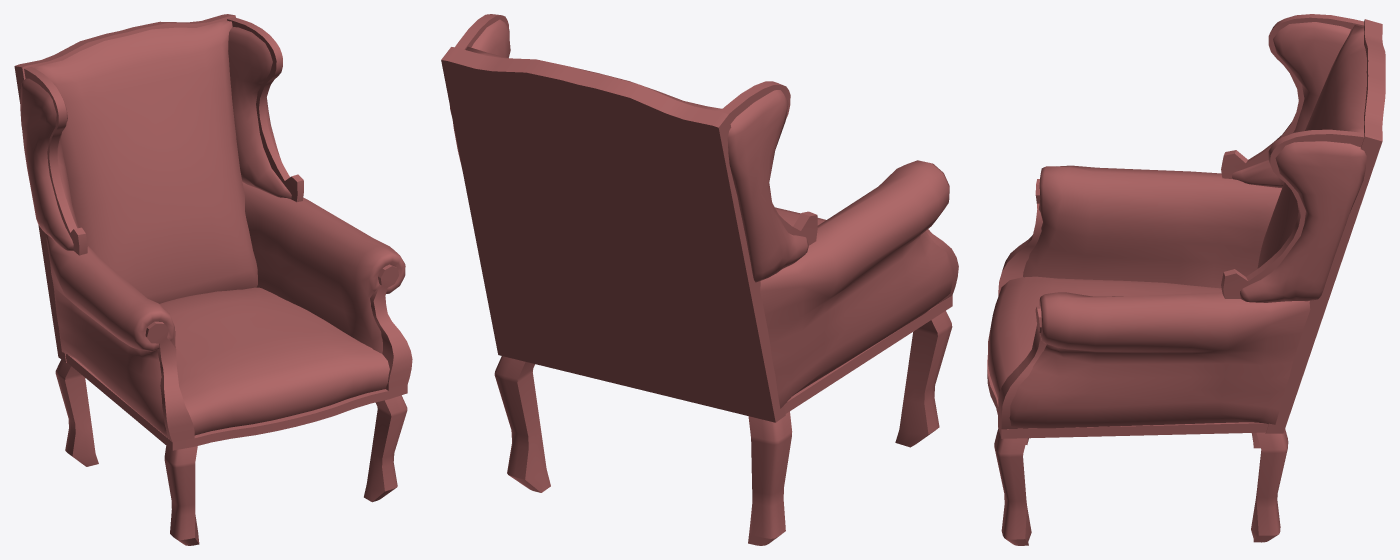
File: ACT2_LoungeChair_fin.fbx
3 renders of one model, left to right at view 1: azimuth 30°, elevation 25°; view 2: azimuth 150°, elevation 25°; view 3: azimuth 270°, elevation 25°, orthographic. The views are drawn at different scales.
Parts seen in each view (by area): view 1: mesh_LoungeChair_fin; view 2: mesh_LoungeChair_fin; view 3: mesh_LoungeChair_fin.
Part boxes in pixels (<box>): mesh_LoungeChair_fin: <box>14,14,412,545</box>; mesh_LoungeChair_fin: <box>441,14,958,545</box>; mesh_LoungeChair_fin: <box>987,14,1385,545</box>.
Bounding box in the file's own units: 84.73 × 110 × 93.97.
